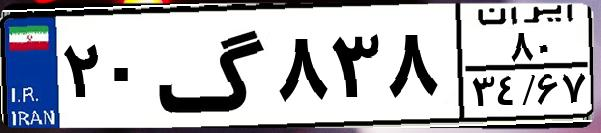0: (110, 28, 156, 98), (537, 27, 568, 80)
2: (57, 26, 110, 100)
3: (330, 28, 385, 110), (470, 70, 495, 125)
4: (495, 70, 520, 125)
6: (535, 70, 560, 125)
7: (560, 70, 590, 125)
8: (270, 28, 330, 110), (385, 28, 445, 110), (508, 27, 537, 80)
گ: (156, 12, 270, 120)
